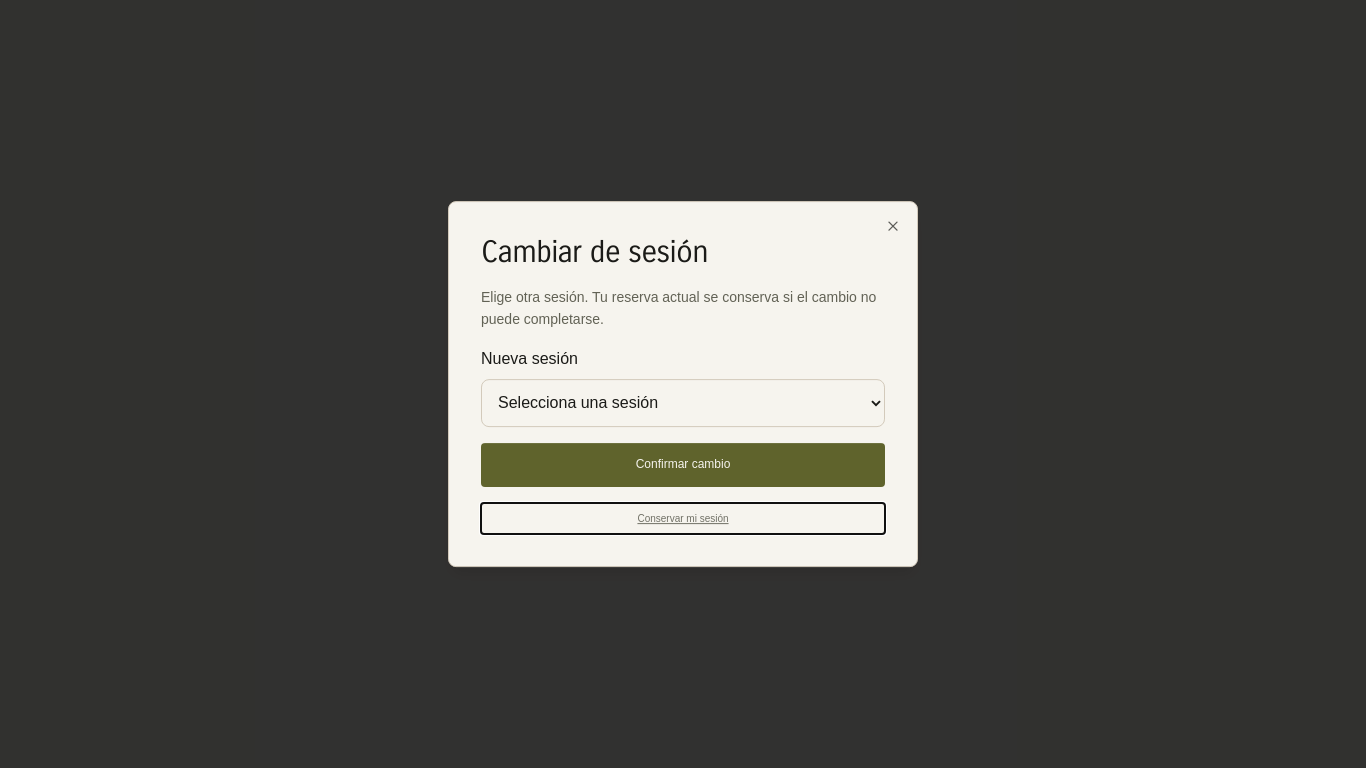
Test: keeps the original reservation dialog recoverable after an atomic change is rejected
Select "2030-01-02 · 11:00 · TRAIN destino" in the dropdown labelled "Nueva sesión" at x=683, y=403, box [481,379,885,427]
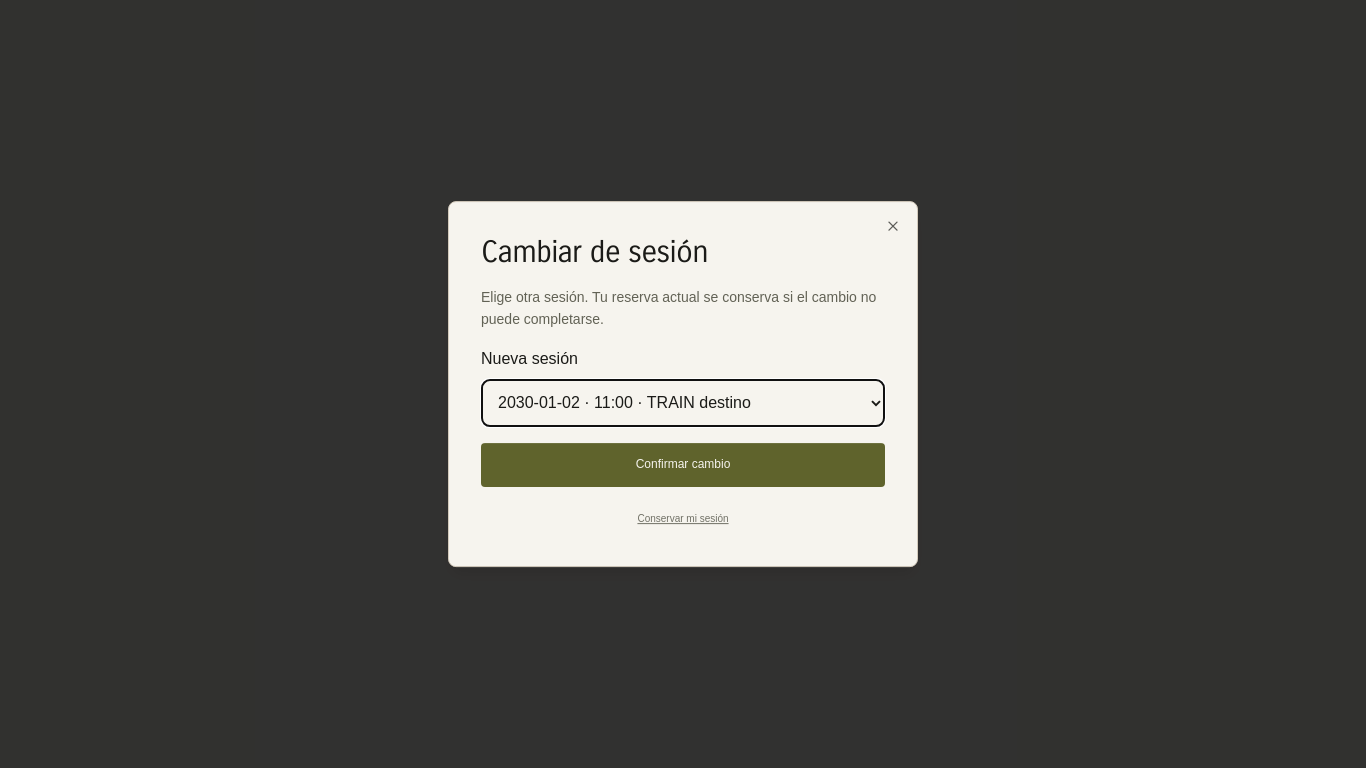
Click the button "Confirmar cambio" at x=683, y=465, box [481,443,885,487]
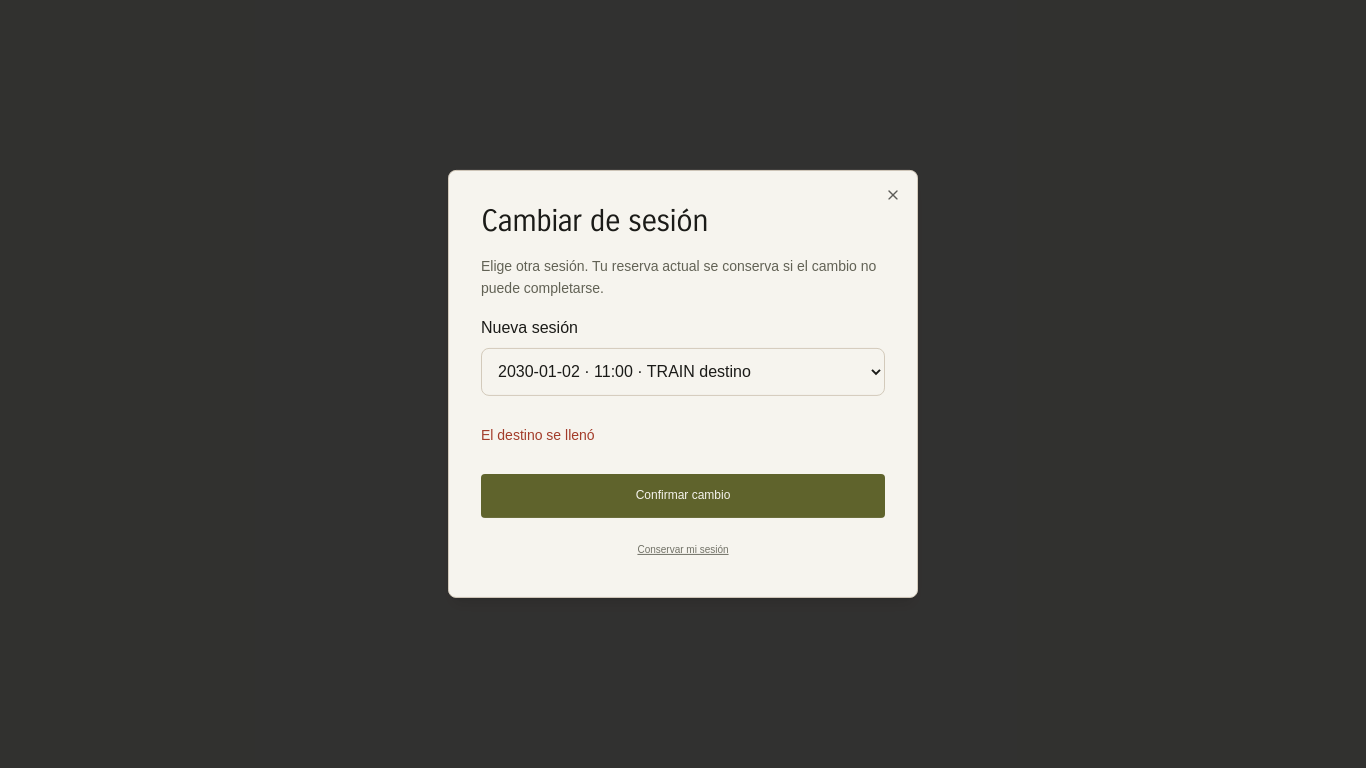
Expected: the text "El destino se llenó" is shown, [481,427,595,443]
